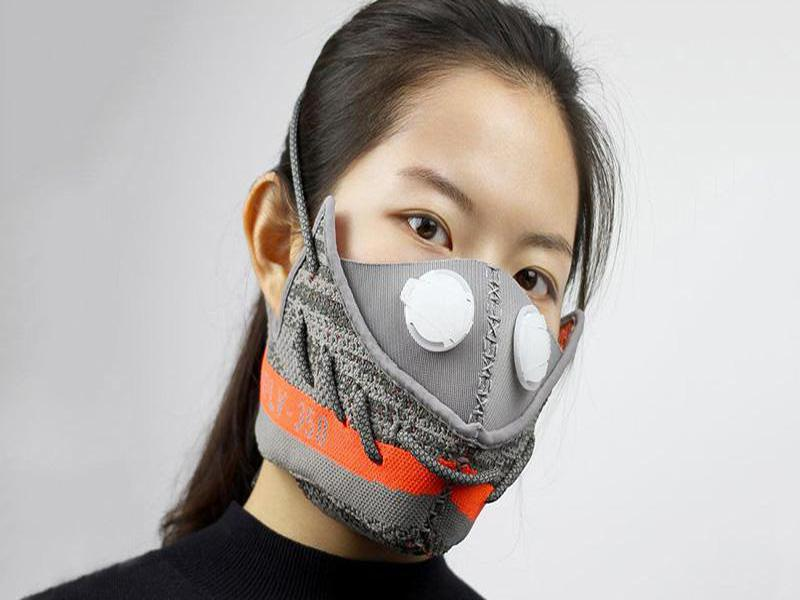with_mask: (240, 1, 583, 566)
